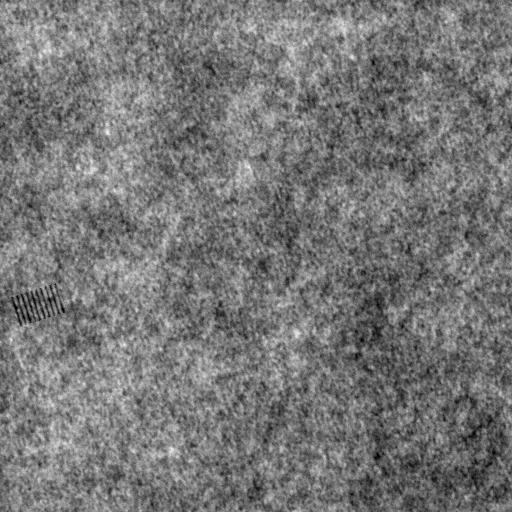DefectTypeB: (13, 282, 68, 322)
